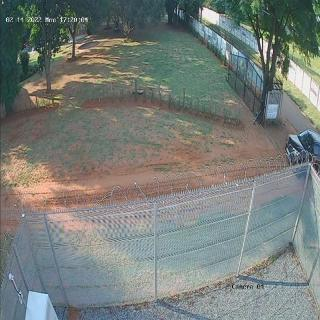car: (285, 128, 319, 175)
